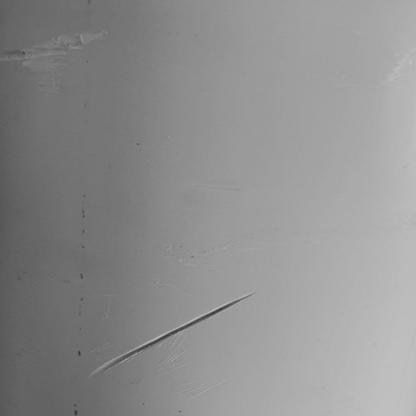sunshang: (94, 291, 254, 378), (1, 30, 110, 74)
